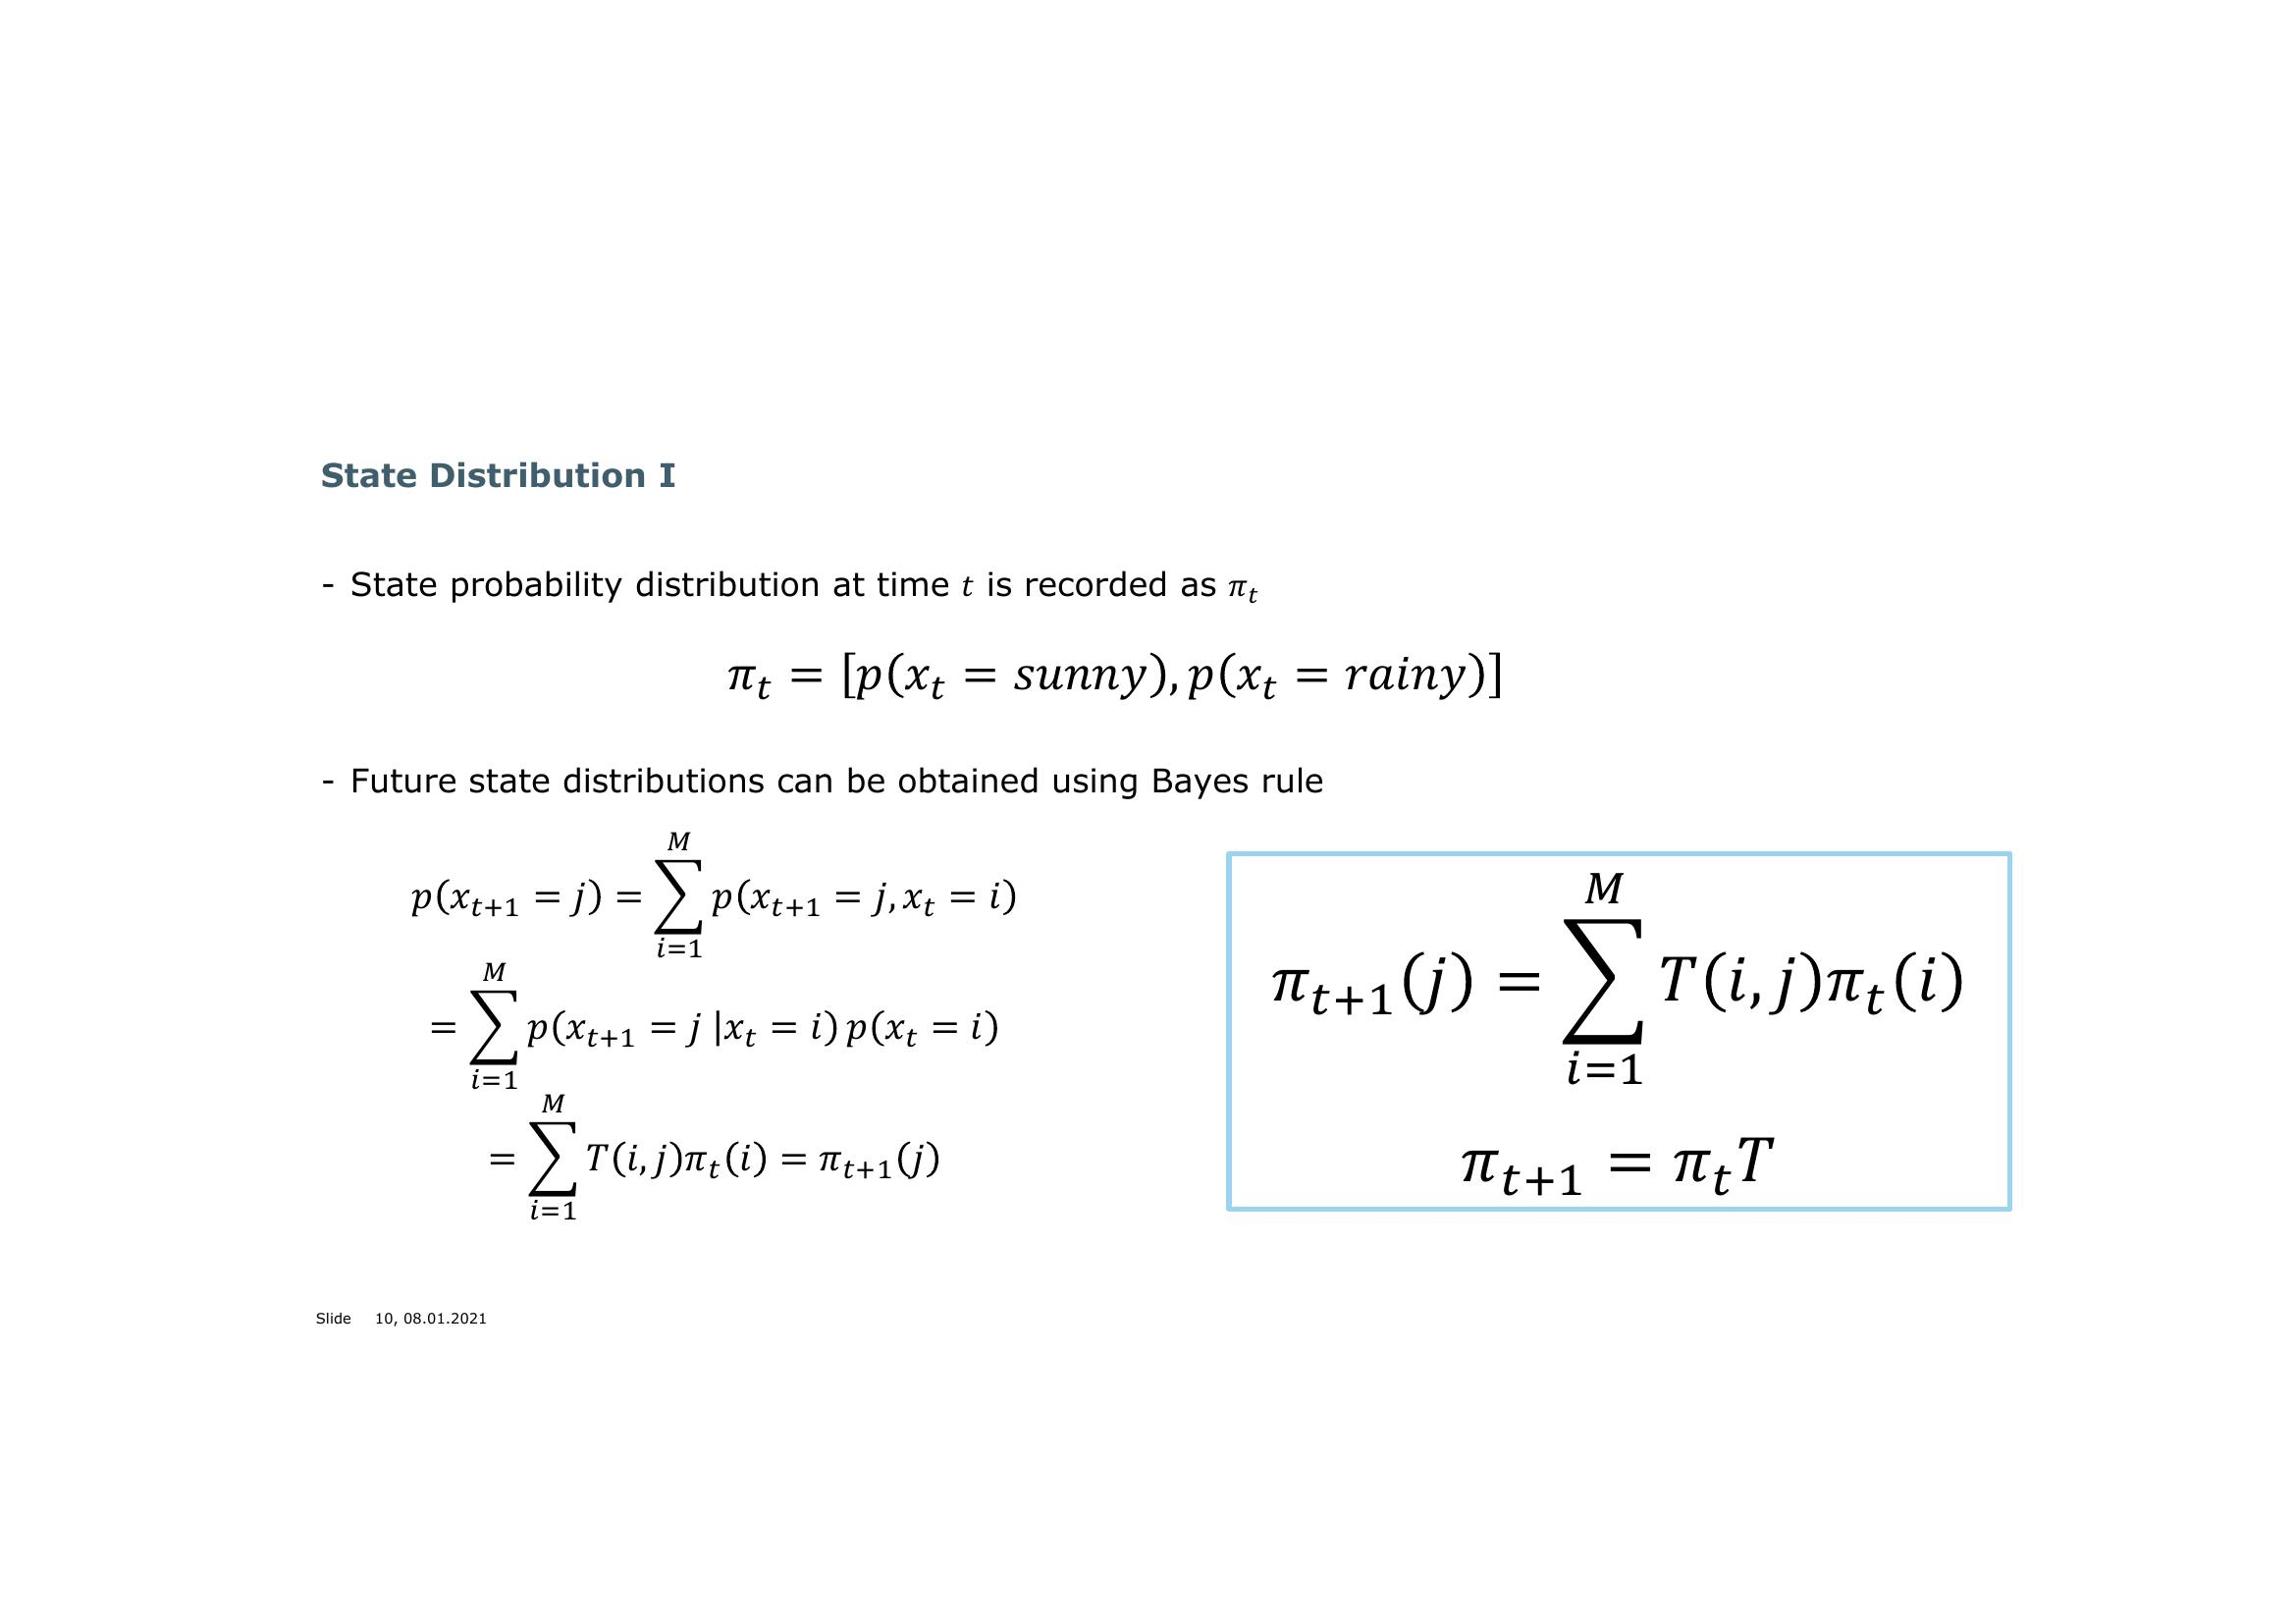Title: (283, 434, 687, 515)
